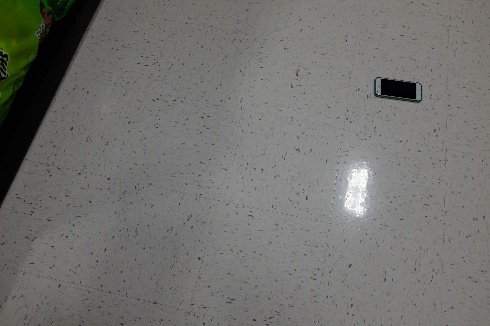phone: (370, 72, 419, 104)
